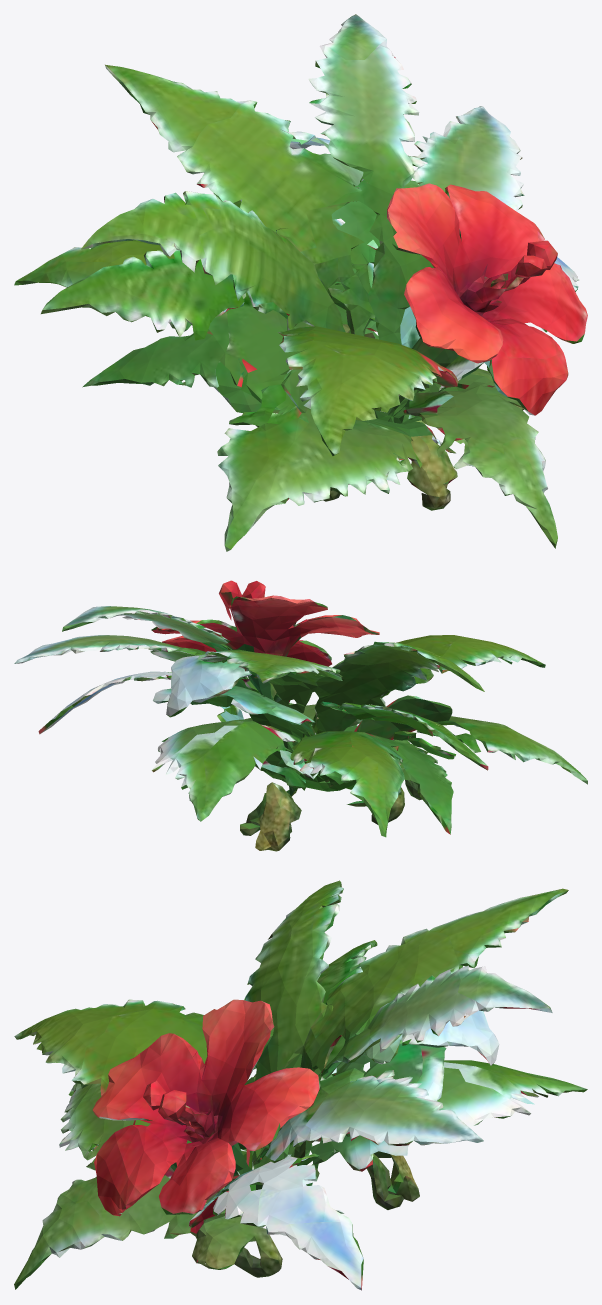
File: fern_patch.glb
3 views of the same model, one above another, from view 1: azimuth 30°, elevation 25°; view 2: azimuth 150°, elevation 25°; view 3: azimuth 270°, elevation 25° (orthographic). The views are drawn at different scales.
Parts seen in each view (by area): view 1: tmpjym11hmj.ply; view 2: tmpjym11hmj.ply; view 3: tmpjym11hmj.ply.
Part boxes in pixels (x1,y1,x2,y2): tmpjym11hmj.ply: (14,14,587,551); tmpjym11hmj.ply: (14,580,587,851); tmpjym11hmj.ply: (14,880,587,1290).
Bounding box in the file's own units: 2 × 1.19 × 1.89.
Materials: 1 (1 with a texture image).
